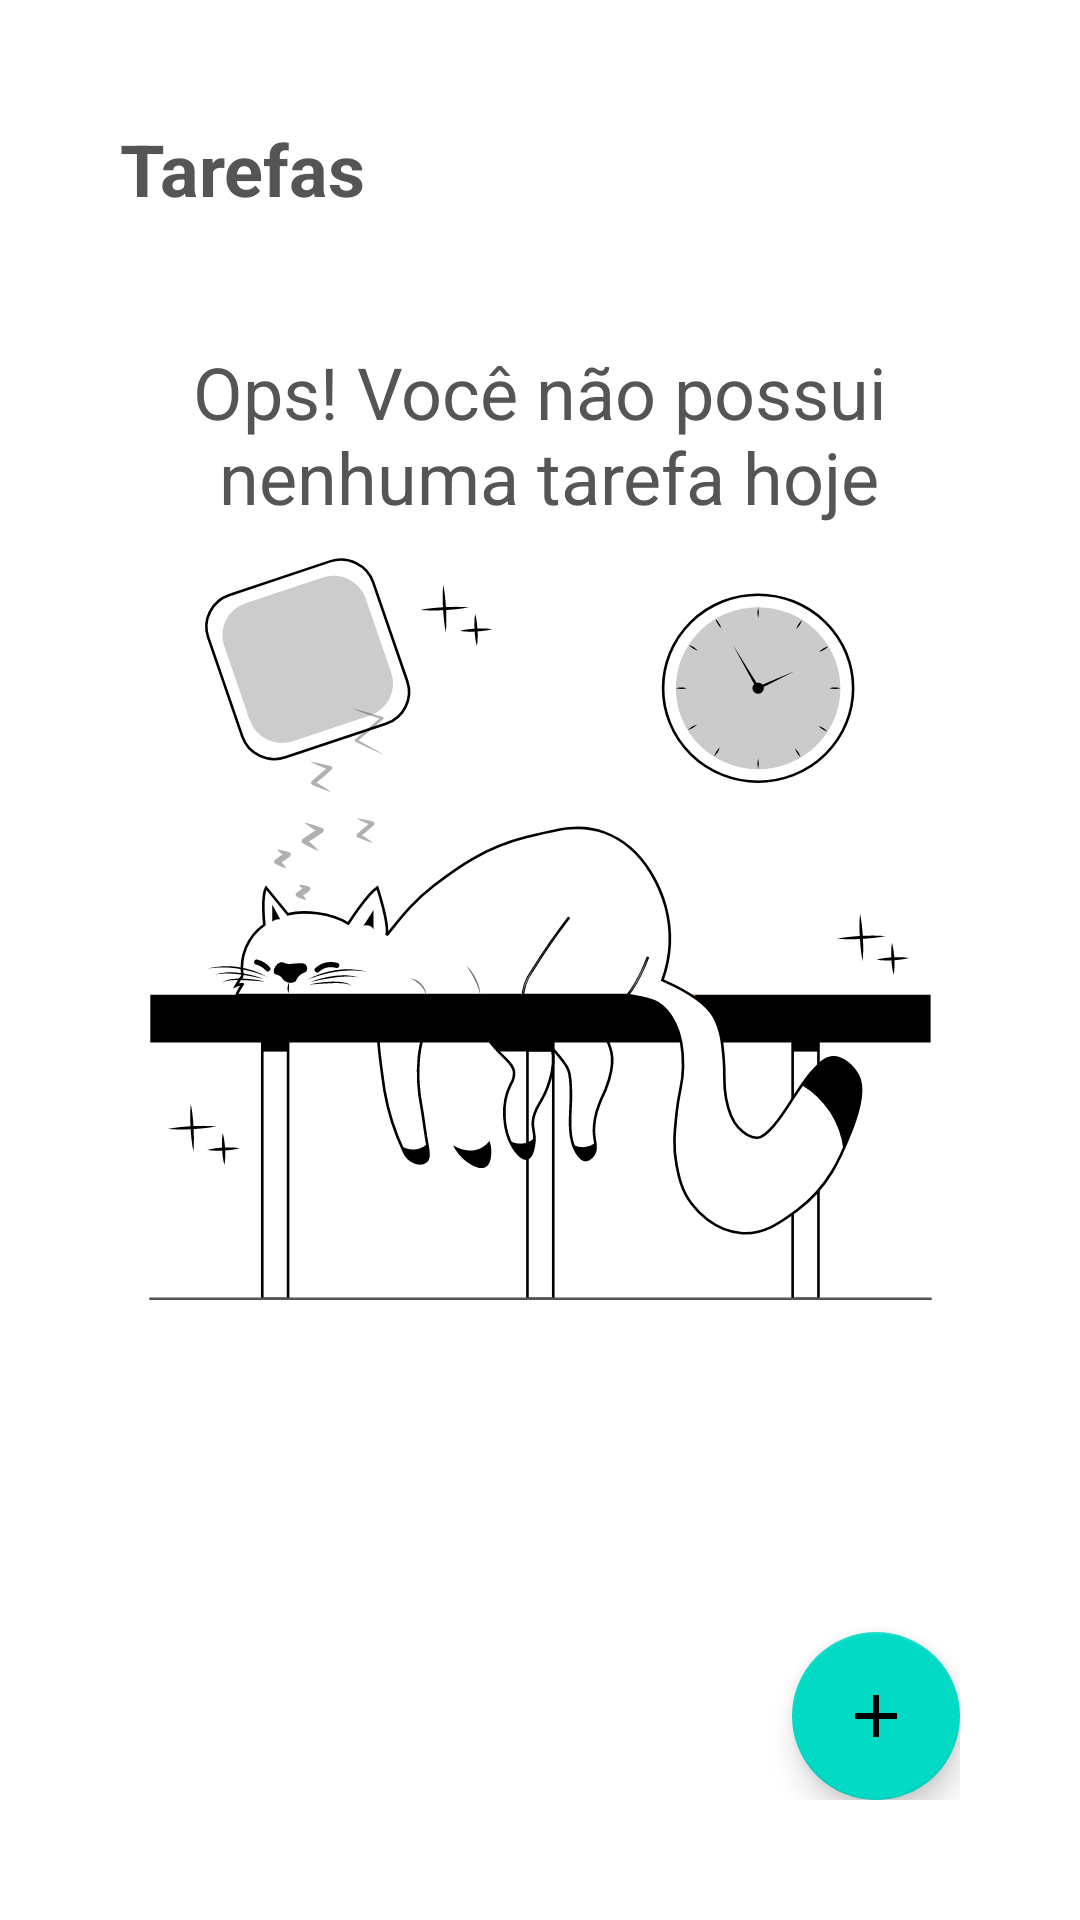

Screen size 1080*1920. Icon name, then its box in pixels as (x1=x1, y1=y1, x2=x2, y2=y2):
Criar Tarefa: (x1=792, y1=1632, x2=960, y2=1800)
